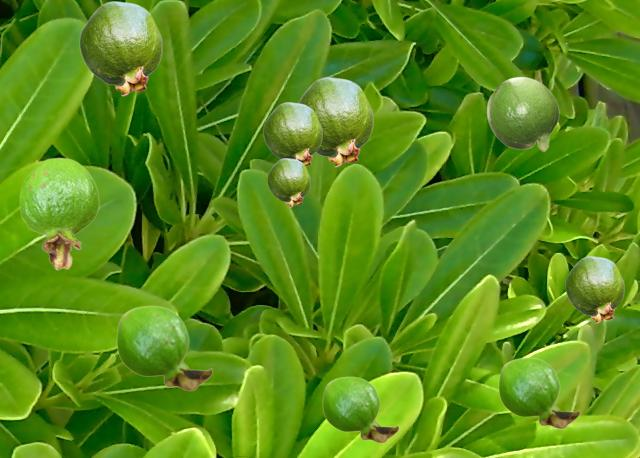guava: (19, 157, 98, 269), (116, 305, 212, 390), (79, 1, 161, 95), (298, 77, 372, 166), (498, 357, 579, 428), (486, 76, 558, 151), (322, 376, 398, 442), (565, 256, 623, 322), (263, 102, 321, 166), (267, 158, 309, 206)
